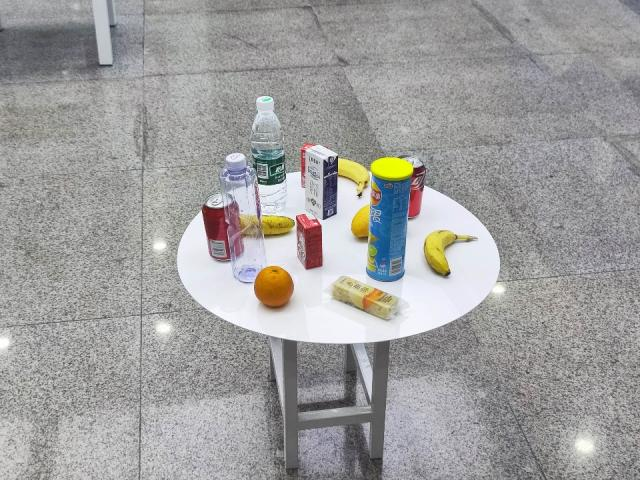Canned_drinks: (202, 193, 236, 261)
bottle: (220, 159, 268, 272), (250, 96, 292, 213)
cylinder: (369, 154, 412, 285)
drink_box: (292, 211, 329, 278), (306, 145, 337, 223)
